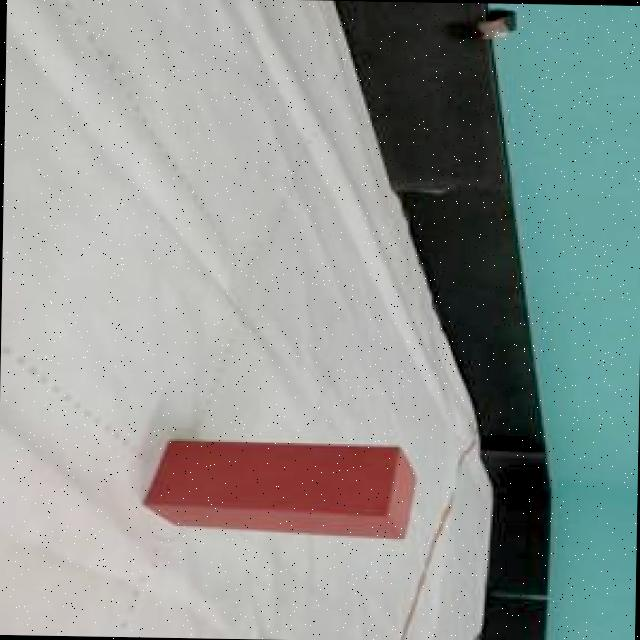redbox: (142, 439, 416, 538)
